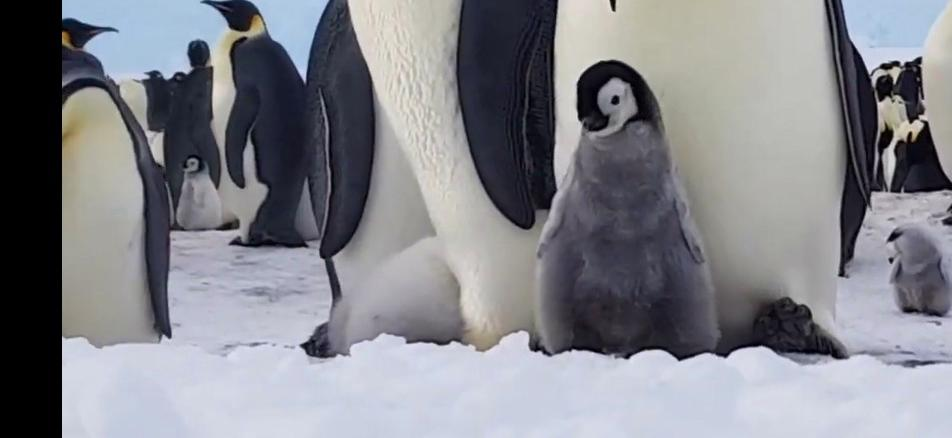Emperor Penguin: (345, 0, 577, 340), (532, 60, 713, 342), (64, 10, 168, 348), (196, 0, 302, 258), (563, 0, 855, 47), (918, 0, 952, 220)
